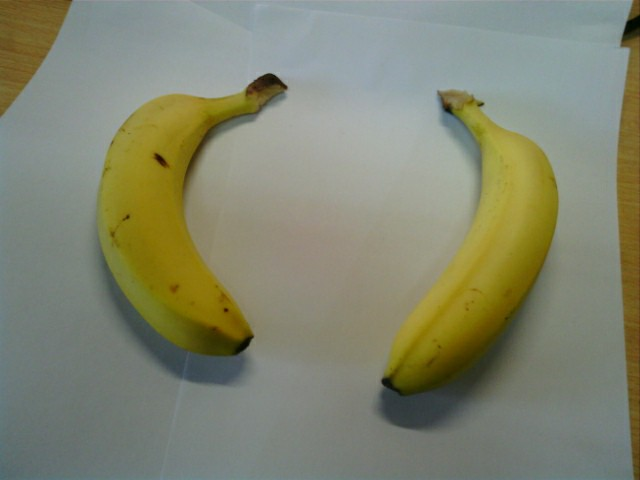fresh_banana: (385, 93, 560, 401)
normal_banana: (93, 79, 252, 355)
